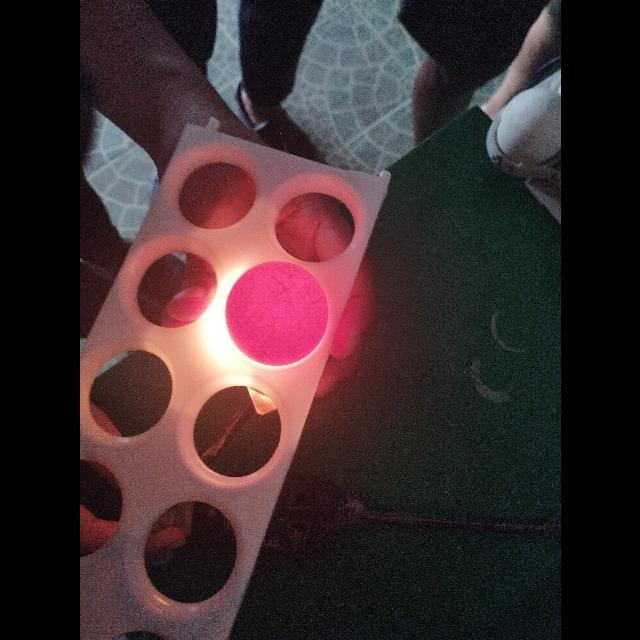Infertile: (228, 260, 326, 364)
